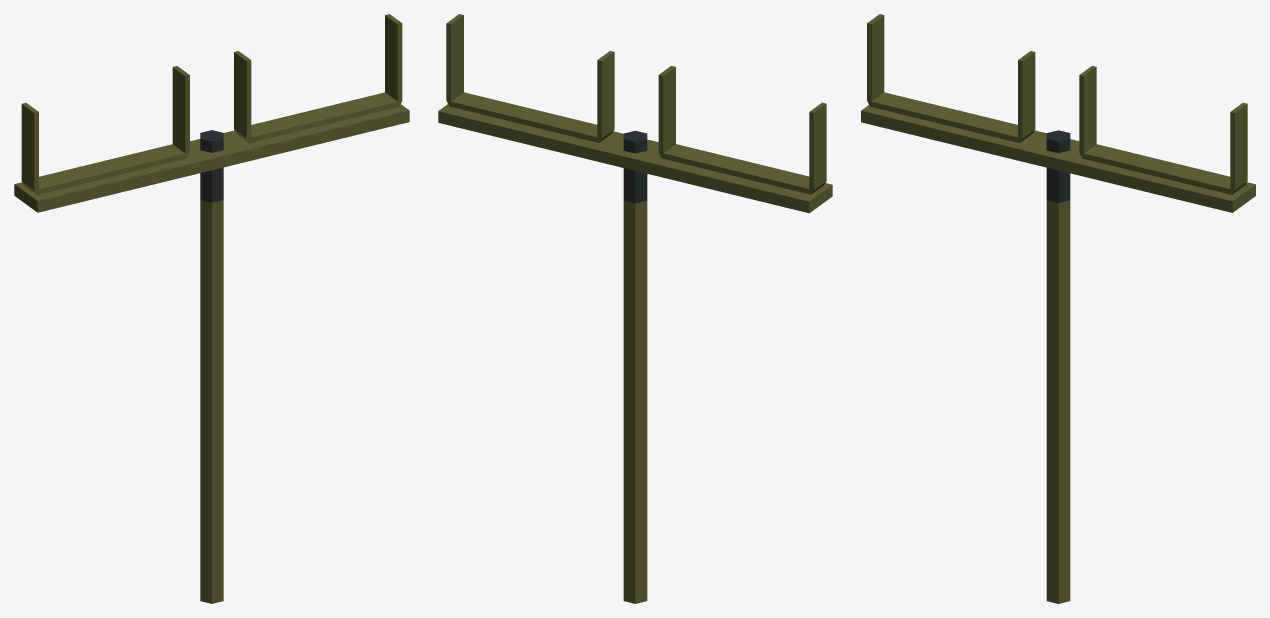
The model's file is SM_Prop_Light_Portable_Pole_01.glb.
3 renders of one model, left to right at view 1: azimuth 30°, elevation 25°; view 2: azimuth 150°, elevation 25°; view 3: azimuth 330°, elevation 25°, orthographic.
Parts seen in each view (by area): view 1: SM_Prop_Light_Portable_Pole_01; view 2: SM_Prop_Light_Portable_Pole_01; view 3: SM_Prop_Light_Portable_Pole_01.
Boxes of the visible parts, x1,y1,x2,y2 form: SM_Prop_Light_Portable_Pole_01: [14, 14, 409, 603]; SM_Prop_Light_Portable_Pole_01: [438, 14, 832, 603]; SM_Prop_Light_Portable_Pole_01: [861, 14, 1255, 603].
Size of the model in its own units: 0.627 by 0.8626 by 0.0681.
Materials: 1 (1 with a texture image).
